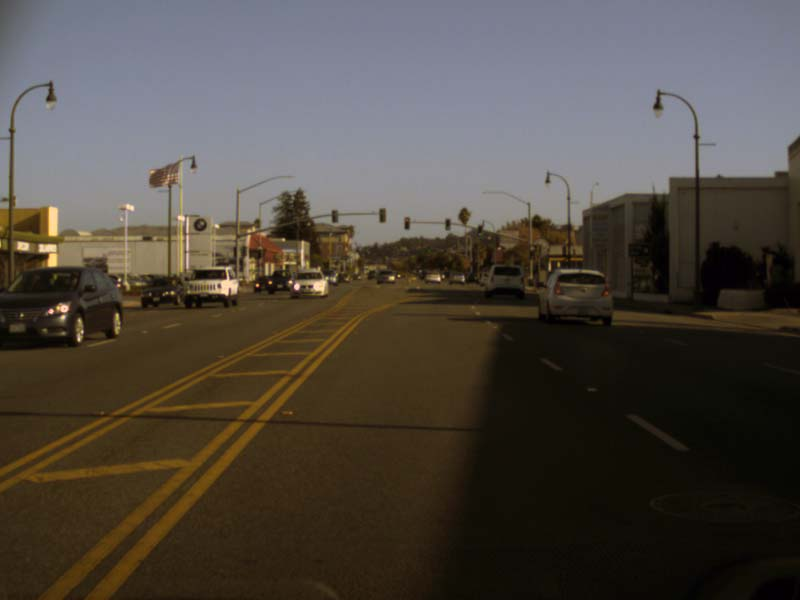Green: (445, 219, 450, 229), (477, 226, 481, 236), (427, 247, 430, 251)
Red: (403, 217, 409, 228)
